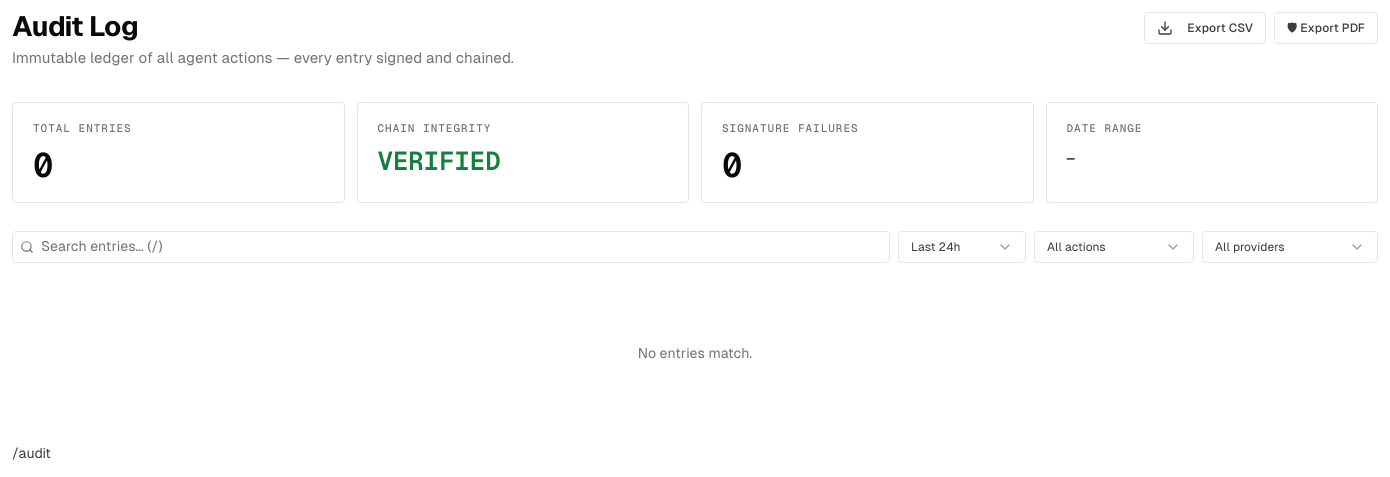
AuditLogPage — filters › passes the debounced search to the query and clears all filters
Type "leak" into the field with placeholder "Search entries… (/)".
click(451, 247); type("leak")  # box 12,231 -> 890,263
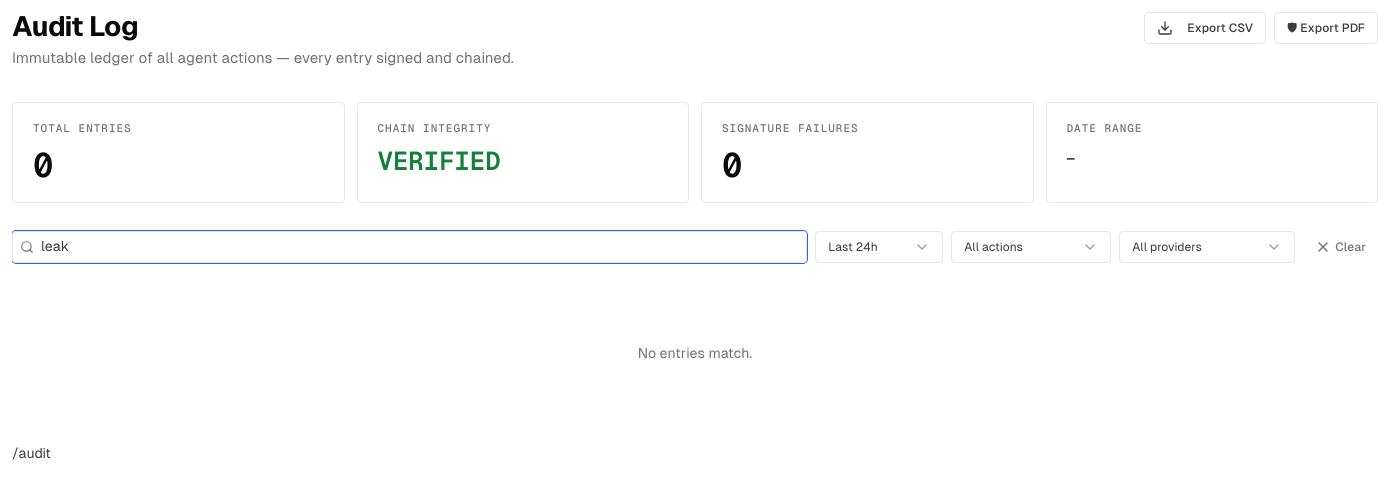
Click the button "Clear".
click(1341, 247)  # box 1303,231 -> 1378,263
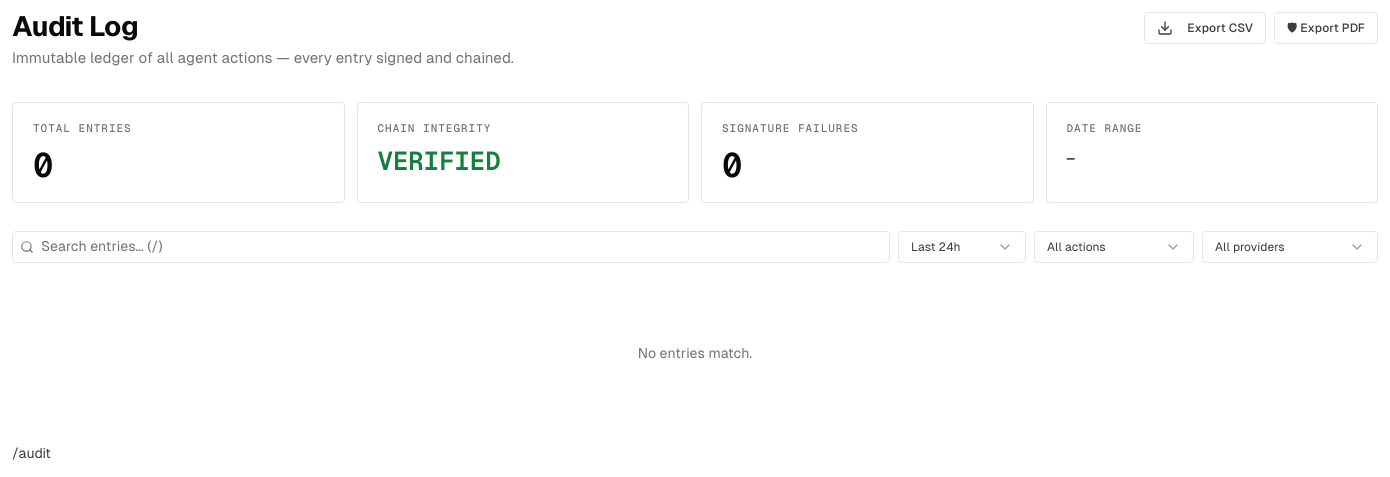
Now the field with placeholder "Search entries… (/)" is empty, box 12,231 -> 890,263
